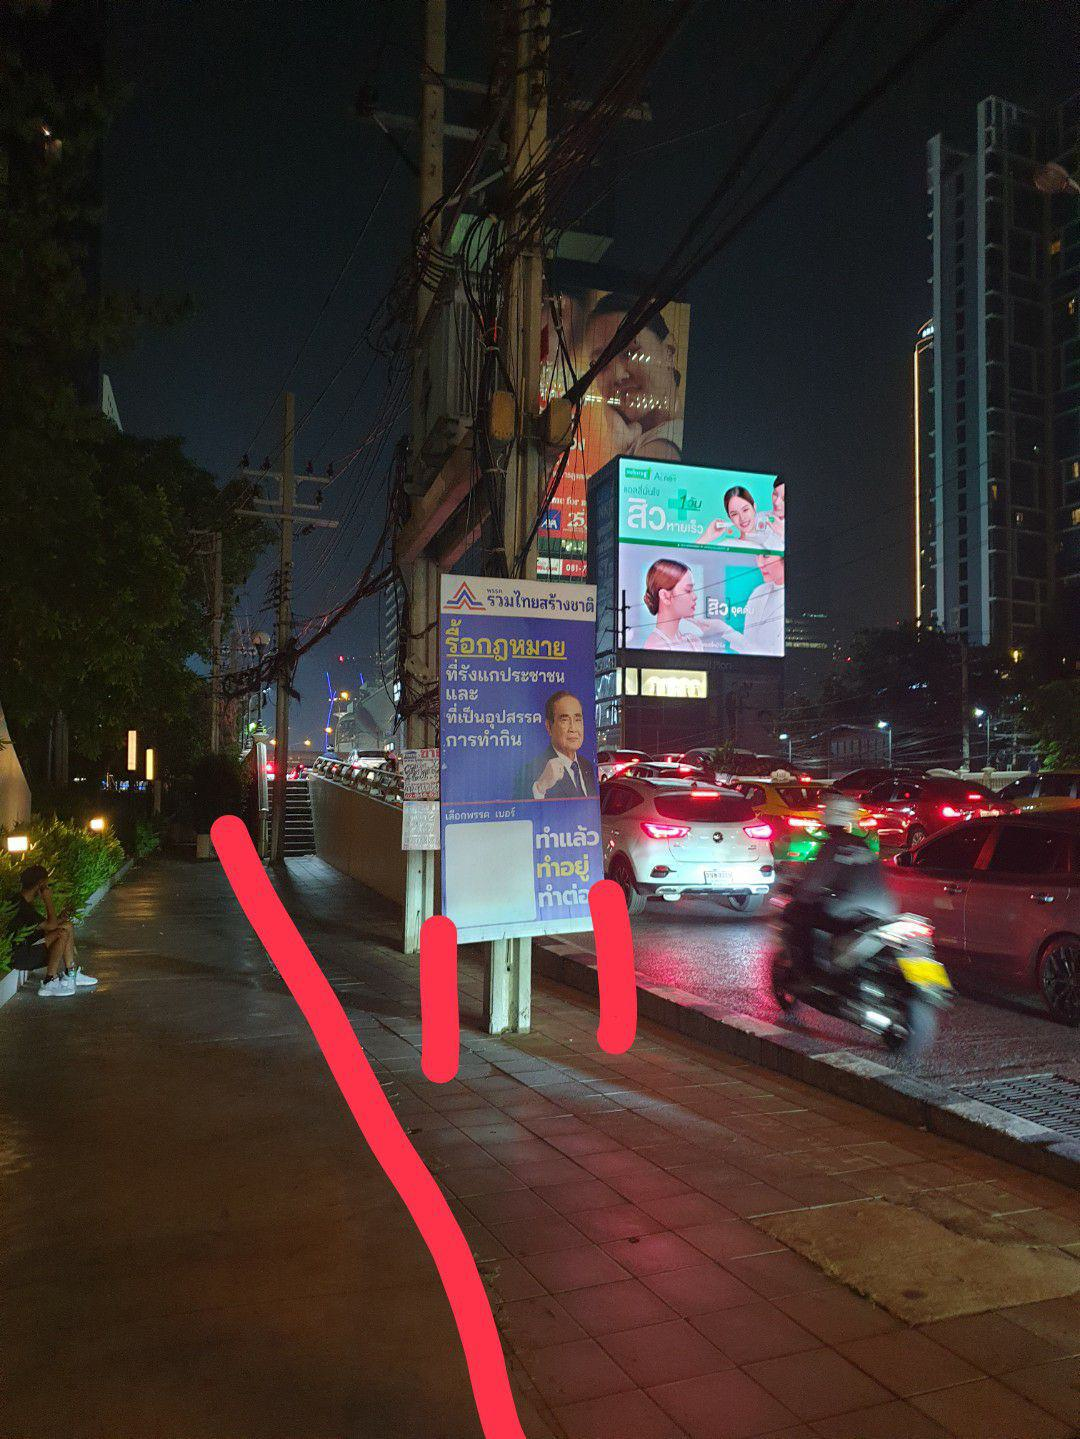Banner: (438, 574, 616, 959)
